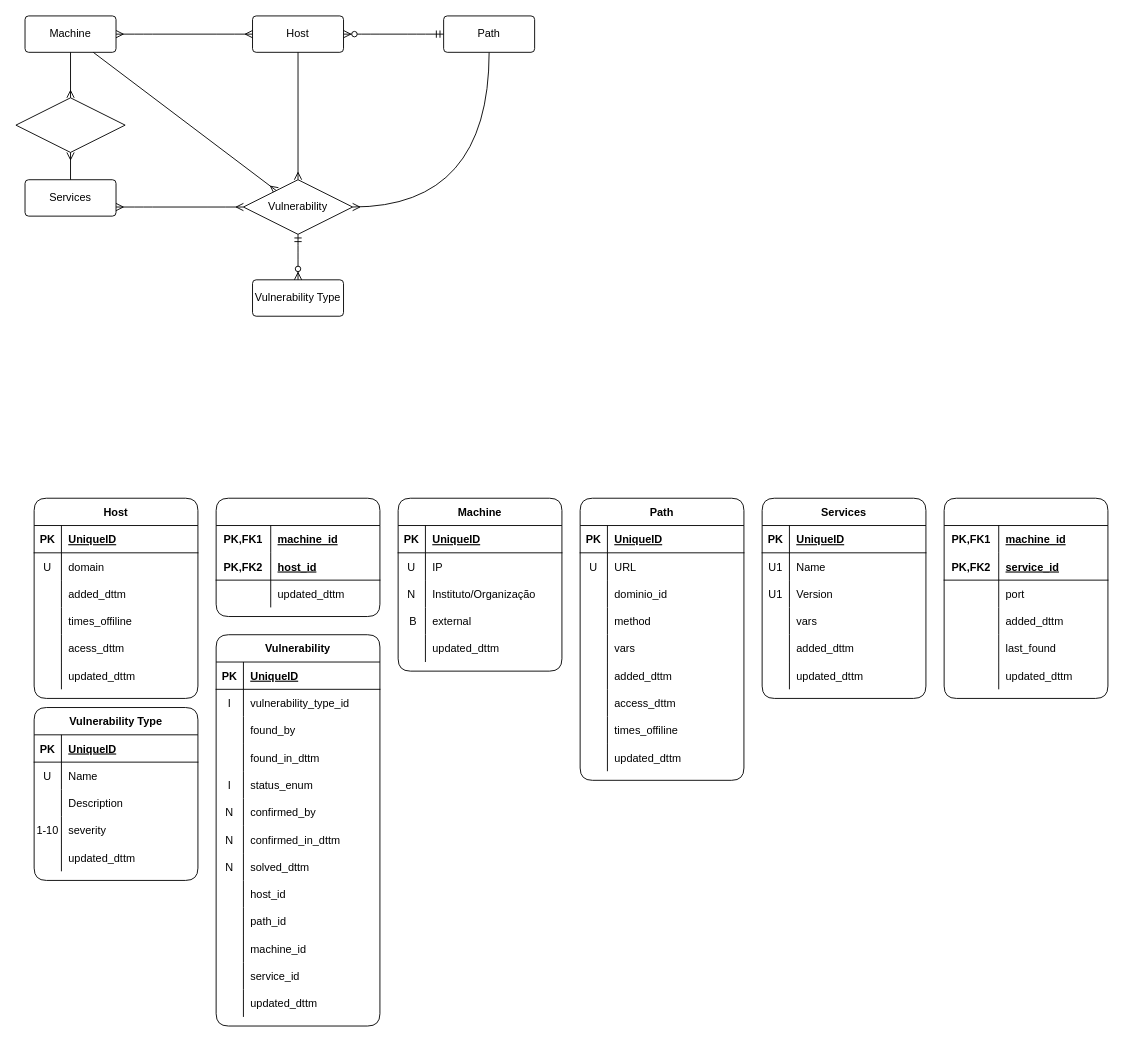
Image size: 1124x1042. Some labels were removed from this diagram. Each missing label, with the box of its shape:
machine_host: (215, 497, 380, 617)
machine_services: (15, 97, 125, 152)
machine_serviçes: (943, 497, 1108, 698)
